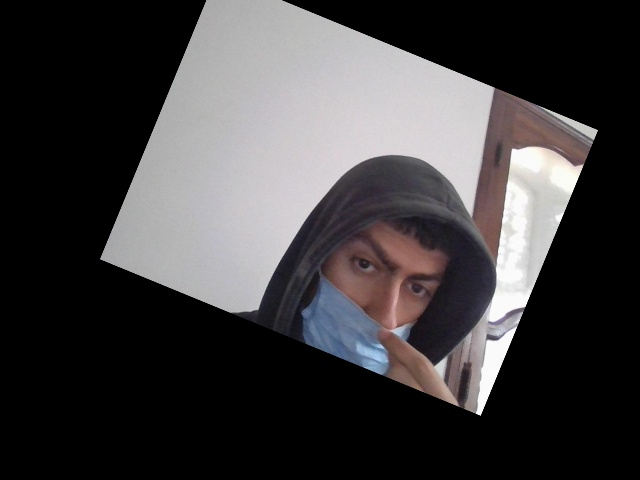mask_weared_incorrect: (279, 182, 458, 397)
